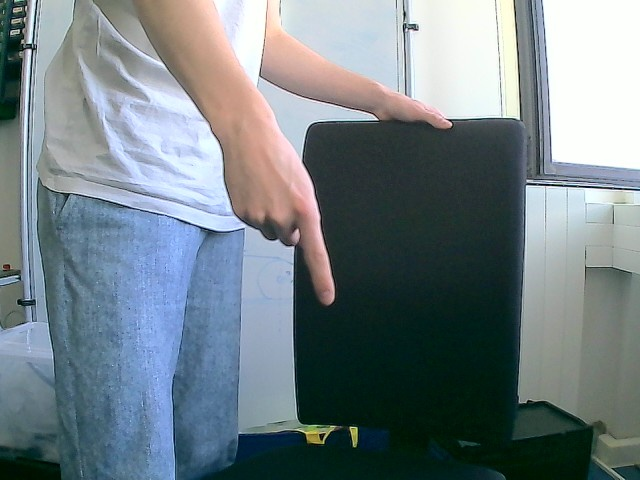down: (220, 130, 338, 307)
no_gesture: (376, 83, 458, 130)
